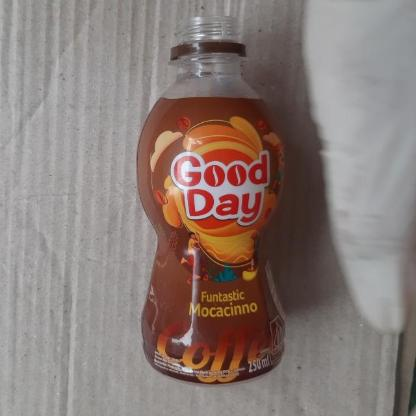Plastic Bottle: (135, 19, 288, 385)
